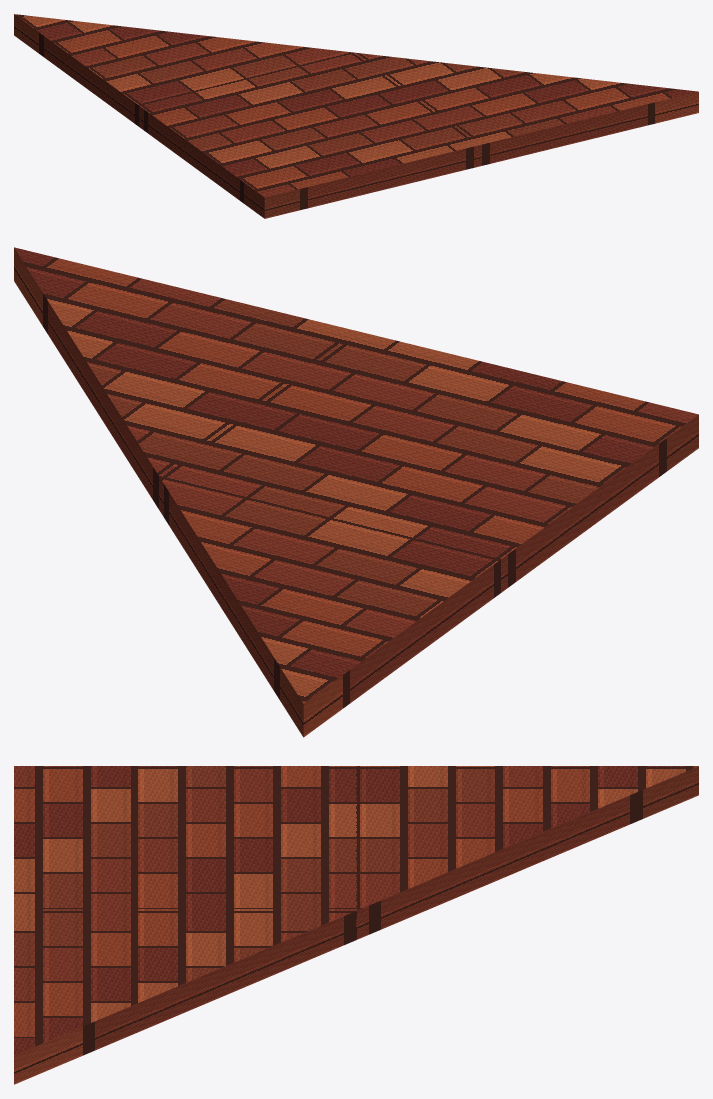
Rendered from byzantine terracotta roof inverse.glb.
3 renders of one model, top to bottom at view 1: azimuth 30°, elevation 25°; view 2: azimuth 150°, elevation 25°; view 3: azimuth 270°, elevation 25°, orthographic. The views are drawn at different scales.
Visible parts, largest first — view 1: ByzantineTerracottaRoofInverse; view 2: ByzantineTerracottaRoofInverse; view 3: ByzantineTerracottaRoofInverse.
Part boxes in pixels (x1,y1,x2,y2): ByzantineTerracottaRoofInverse: [14, 14, 698, 218]; ByzantineTerracottaRoofInverse: [14, 247, 698, 737]; ByzantineTerracottaRoofInverse: [14, 766, 698, 1084].
Bounding box in the file's own units: 1 × 0.047 × 1.
1 material, 1 textured.
